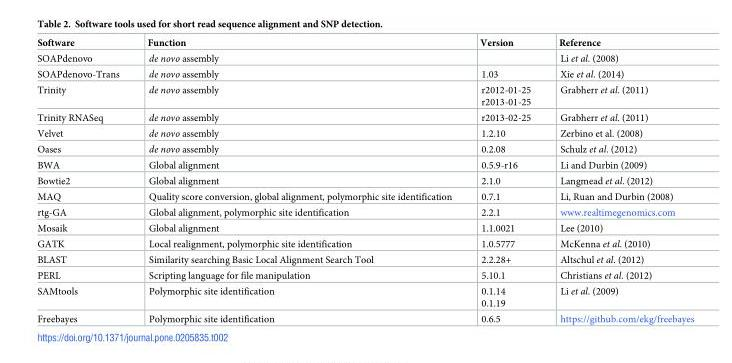table: (36, 37, 693, 323)
table column: (132, 37, 465, 323), (544, 37, 693, 323), (36, 37, 132, 323), (465, 37, 544, 323)
table column header: (36, 37, 693, 49)
table row: (36, 282, 693, 310), (36, 81, 693, 108), (36, 171, 693, 189), (36, 108, 693, 125), (36, 140, 693, 157), (36, 234, 693, 251), (36, 49, 693, 65), (36, 65, 693, 81), (36, 204, 693, 220), (36, 251, 693, 267), (36, 125, 693, 140), (36, 189, 693, 204), (36, 267, 693, 282), (36, 157, 693, 171), (36, 220, 693, 234), (36, 310, 693, 323), (36, 37, 693, 49)
